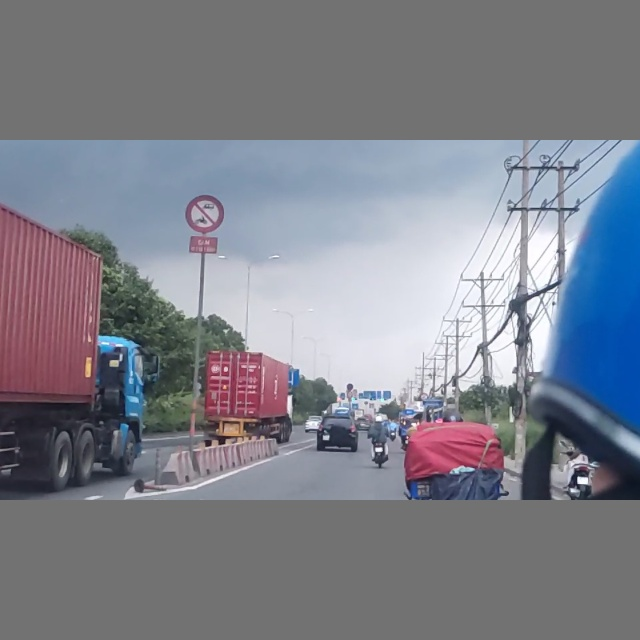P.111: (185, 194, 225, 233)
